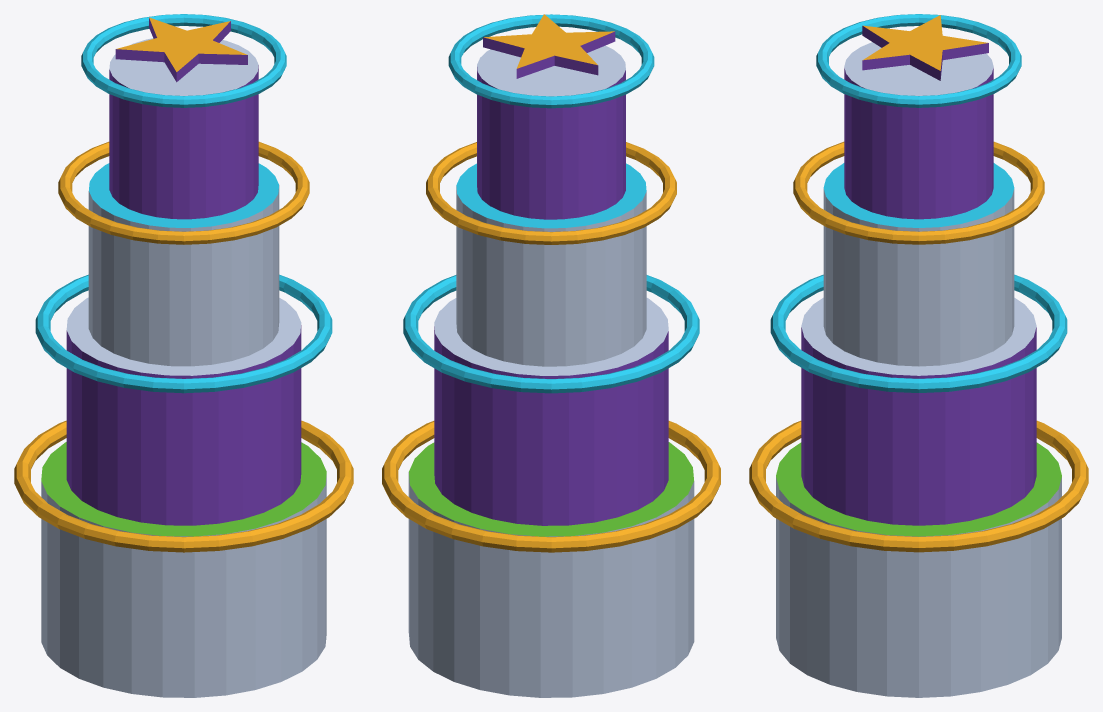
Rendered from galaxy_spiral_tower.obj.
3 views of the same model, side by side, from view 1: azimuth 30°, elevation 25°; view 2: azimuth 150°, elevation 25°; view 3: azimuth 270°, elevation 25° (orthographic).
Parts seen in each view (by area): view 1: galaxy_spiral_tower; view 2: galaxy_spiral_tower; view 3: galaxy_spiral_tower.
Part boxes in pixels (x1,y1,x2,y2): galaxy_spiral_tower: [14, 14, 353, 697]; galaxy_spiral_tower: [382, 14, 720, 697]; galaxy_spiral_tower: [749, 14, 1088, 697].
Size of the model in its own units: 10.72 by 20.62 by 10.66.
